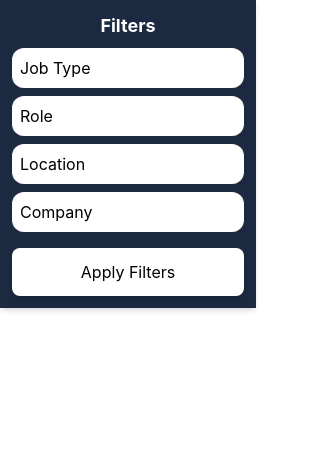
Test: SearchFilters Component › opens dropdown when title is clicked
Click the button "Job Type" at (128, 68), box [12,48,244,88]
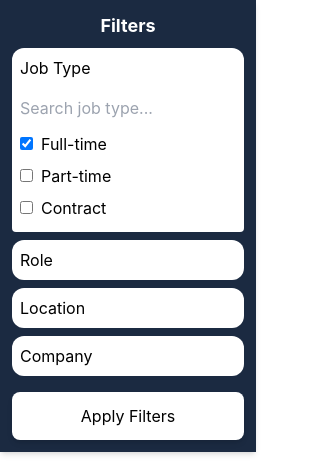
Expected: the field with placeholder "Search job type..." is shown, [20,96,236,120]
